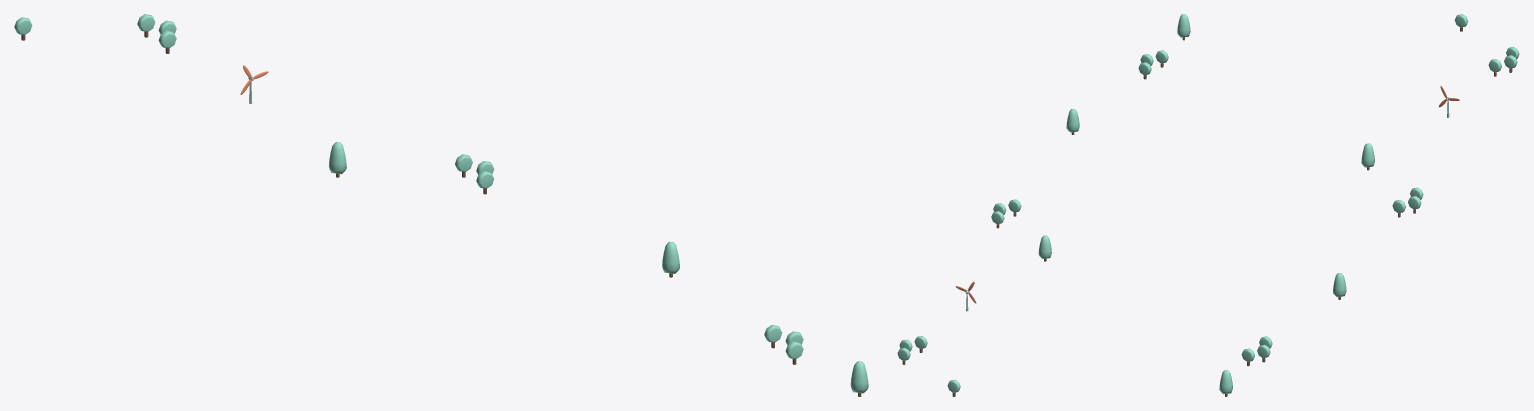
3 renders of one model, left to right at view 1: azimuth 30°, elevation 25°; view 2: azimuth 150°, elevation 25°; view 3: azimuth 330°, elevation 25°, orthographic. The views are drawn at different scales.
Visible parts, largest first — view 1: no part large enough to name; view 2: Trunk_8, Trunk_9, Trunk_13; view 3: Trunk_8, Trunk_13, Trunk_9.
Boxes of the visible parts, left/top/right/bottom form: Trunk_8: left=1038, top=235, right=1051, bottom=261; Trunk_9: left=1066, top=109, right=1079, bottom=134; Trunk_13: left=1177, top=14, right=1190, bottom=40; Trunk_8: left=1361, top=143, right=1374, bottom=170; Trunk_13: left=1219, top=370, right=1232, bottom=396; Trunk_9: left=1333, top=273, right=1346, bottom=299.
Size of the model in its own units: 162 by 23.55 by 584.
